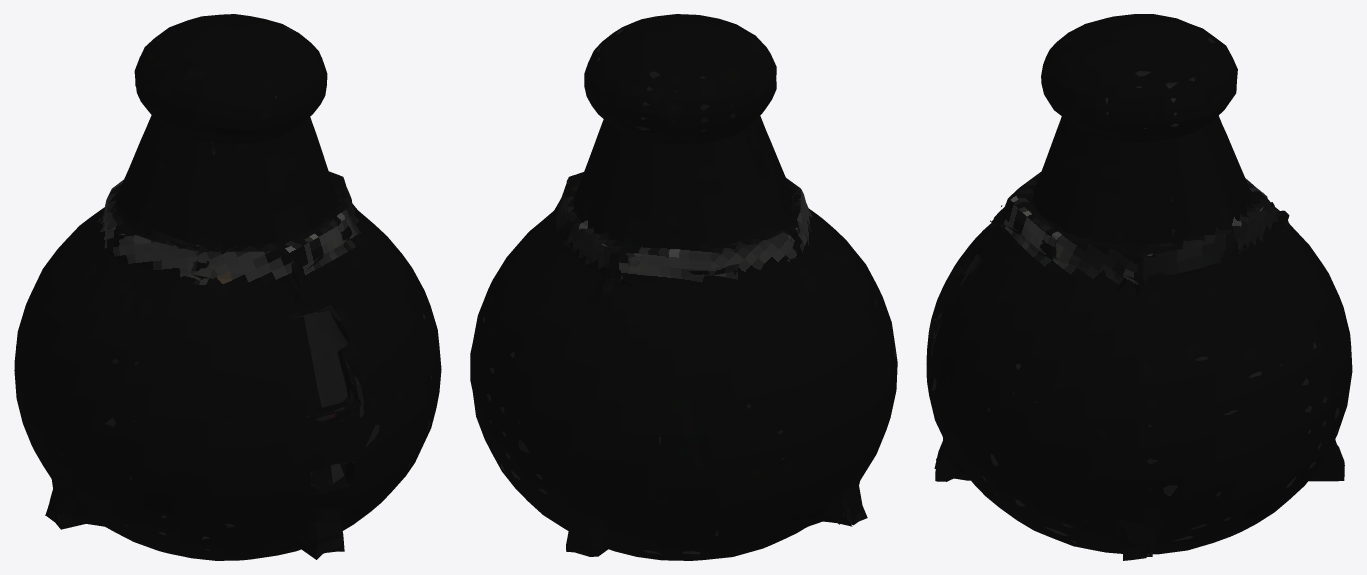
The model's file is SM_LootBag_Black_QuadRetro.glb.
3 renders of one model, left to right at view 1: azimuth 30°, elevation 25°; view 2: azimuth 150°, elevation 25°; view 3: azimuth 270°, elevation 25°, orthographic.
Visible parts, largest first — view 1: LootBag_Black_QuadRemesh; view 2: LootBag_Black_QuadRemesh; view 3: LootBag_Black_QuadRemesh.
Part boxes in pixels (x1,y1,x2,y2): LootBag_Black_QuadRemesh: [14, 14, 441, 560]; LootBag_Black_QuadRemesh: [470, 14, 897, 560]; LootBag_Black_QuadRemesh: [926, 14, 1352, 560].
Size of the model in its own units: 1.55 by 2 by 1.55.
Materials: 1 (1 with a texture image).
